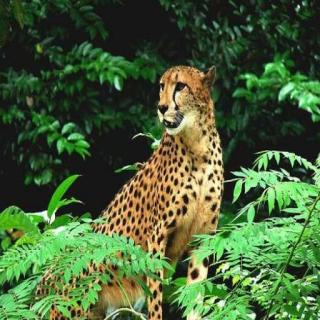Leopard: (98, 48, 256, 320)
